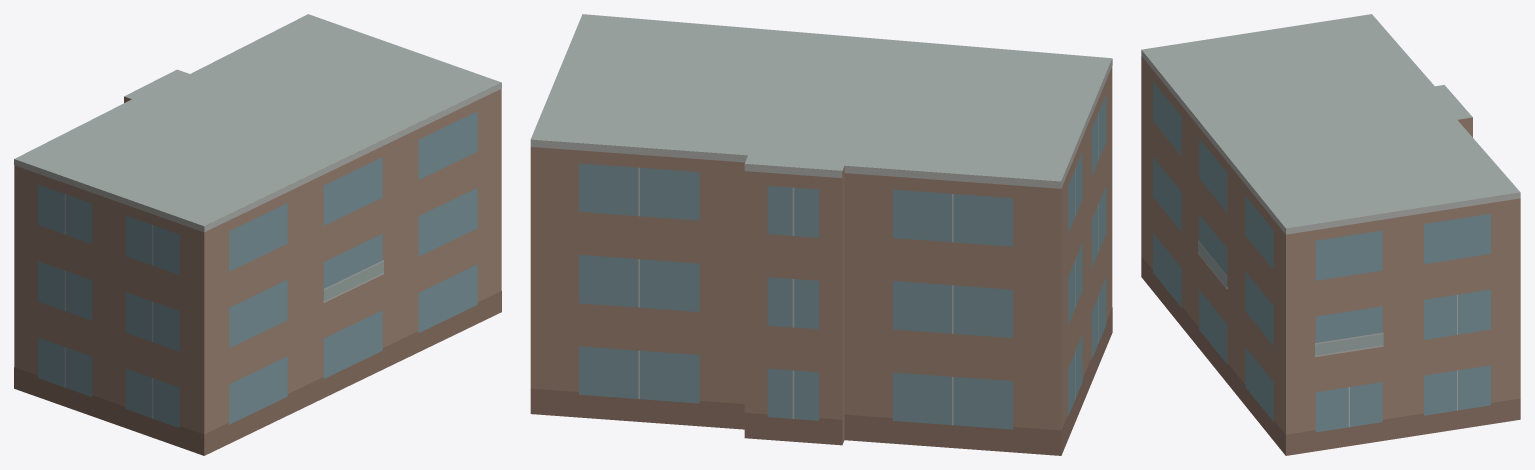
Rendered from survey-upis-32703726.glb.
The picture shows the model from 3 angles, left to right: view 1: azimuth 30°, elevation 25°; view 2: azimuth 150°, elevation 25°; view 3: azimuth 270°, elevation 25°; orthographic projection. The views are drawn at different scales.
Visible parts, largest first — view 1: survey-upis-32703726.tmp; view 2: survey-upis-32703726.tmp; view 3: survey-upis-32703726.tmp.
Part boxes in pixels (x1,y1,x2,y2): survey-upis-32703726.tmp: (14,14,501,455); survey-upis-32703726.tmp: (530,14,1112,455); survey-upis-32703726.tmp: (1141,14,1520,455).
Size of the model in its own units: 18.53 by 9.15 by 13.84.
